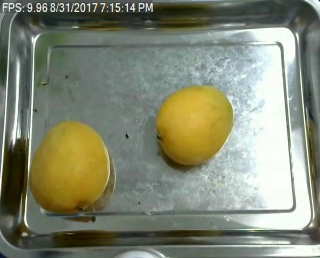Mango: (29, 117, 113, 219), (155, 79, 234, 164)
